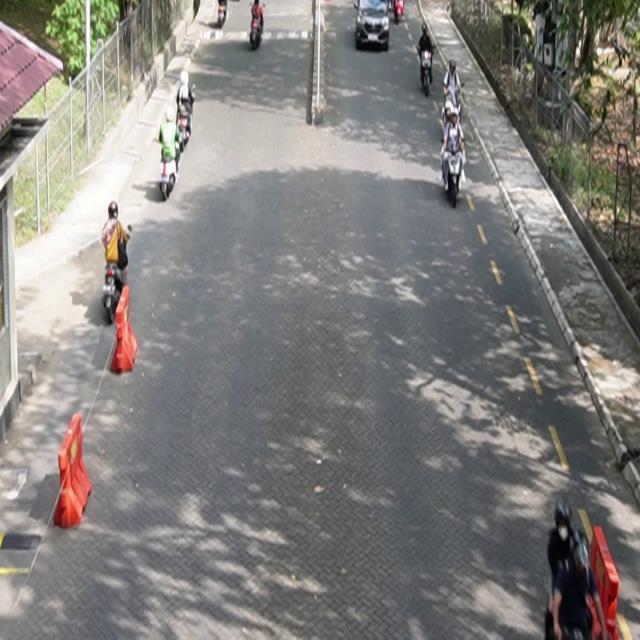car: (354, 1, 391, 52)
